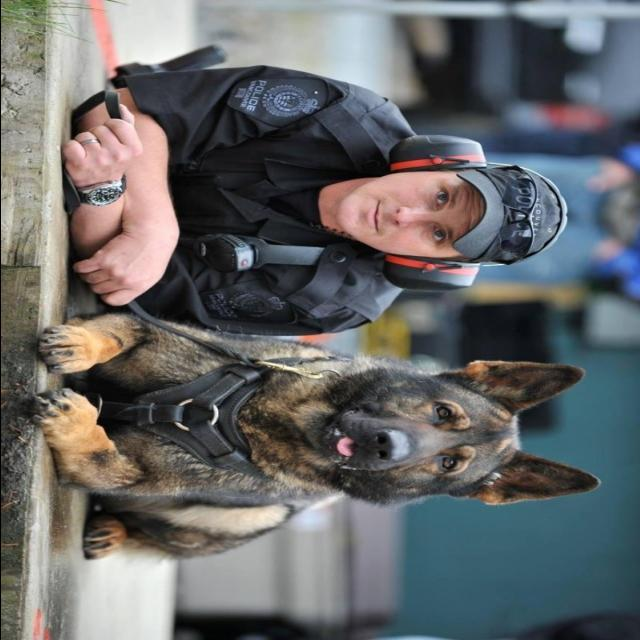Dogs: (24, 310, 602, 564)
